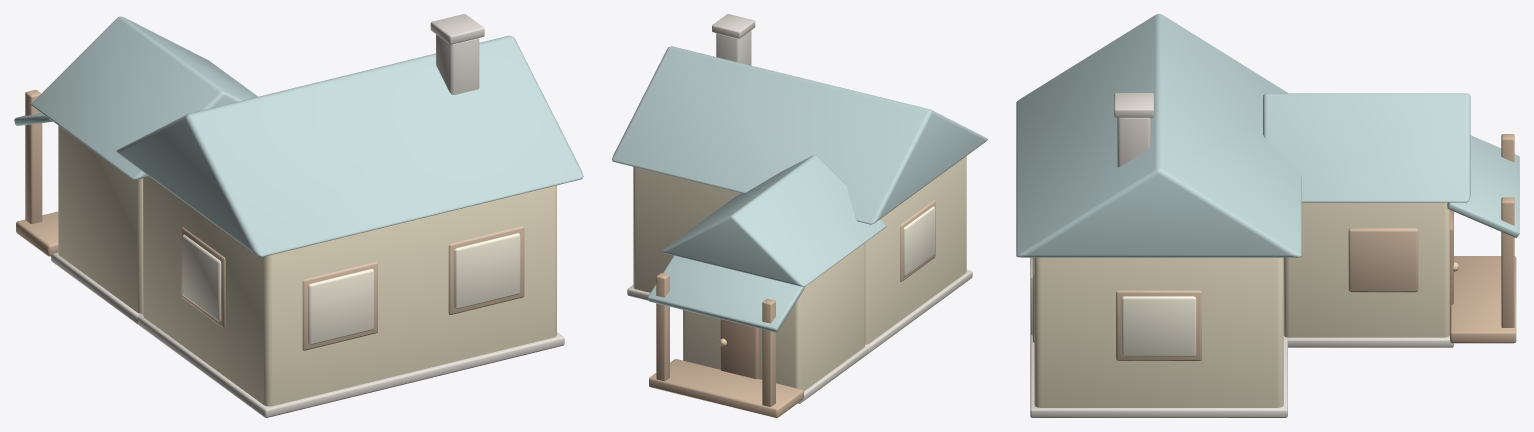
Rendered from Structures_Cabin_B_M_v01.glb.
3 renders of one model, left to right at view 1: azimuth 30°, elevation 25°; view 2: azimuth 150°, elevation 25°; view 3: azimuth 270°, elevation 25°, orthographic. The views are drawn at different scales.
Parts seen in each view (by area): view 1: Cabin_Roof_Main, Cabin_Body_Main, Cabin_Roof_Wing, Cabin_Body_Wing, Cabin_Foundation_Main, Cabin_Window_Front_B, Cabin_Window_Front_A, Cabin_Window_Side_L, Cabin_Chimney, Cabin_Porch_Post_0, Cabin_Window_Front_B_Frame, Cabin_Window_Front_A_Frame (+4 smaller); view 2: Cabin_Roof_Main, Cabin_Body_Main, Cabin_Roof_Wing, Cabin_Body_Wing, Cabin_Porch_Roof, Cabin_Porch_Deck, Cabin_Door, Cabin_Window_Side_L, Cabin_Porch_Post_0, Cabin_Porch_Post_1, Cabin_Foundation_Main, Cabin_Chimney (+3 smaller); view 3: Cabin_Roof_Main, Cabin_Body_Main, Cabin_Roof_Wing, Cabin_Body_Wing, Cabin_Porch_Deck, Cabin_Window_Side_R, Cabin_Window_Wing_Frame, Cabin_Porch_Roof, Cabin_Foundation_Main, Cabin_Foundation_Wing, Cabin_Window_Side_R_Frame, Cabin_Porch_Post_1 (+2 smaller).
Part boxes in pixels (left/top/right/bottom): Cabin_Roof_Main: left=116, top=35, right=583, bottom=256; Cabin_Body_Main: left=143, top=176, right=556, bottom=406; Cabin_Roof_Wing: left=31, top=16, right=257, bottom=179; Cabin_Body_Wing: left=58, top=125, right=142, bottom=313; Cabin_Foundation_Main: left=138, top=314, right=564, bottom=417; Cabin_Window_Front_B: left=454, top=233, right=520, bottom=309; Cabin_Window_Front_A: left=308, top=269, right=374, bottom=344; Cabin_Window_Side_L: left=182, top=234, right=221, bottom=321; Cabin_Chimney: left=436, top=34, right=479, bottom=94; Cabin_Porch_Post_0: left=25, top=89, right=42, bottom=223; Cabin_Window_Front_B_Frame: left=448, top=226, right=524, bottom=314; Cabin_Window_Front_A_Frame: left=302, top=262, right=377, bottom=350; Cabin_Roof_Main: left=612, top=46, right=987, bottom=224; Cabin_Body_Main: left=633, top=156, right=966, bottom=344; Cabin_Roof_Wing: left=661, top=155, right=886, bottom=286; Cabin_Body_Wing: left=683, top=243, right=864, bottom=391; Cabin_Porch_Roof: left=647, top=255, right=804, bottom=332; Cabin_Porch_Deck: left=649, top=359, right=803, bottom=417; Cabin_Door: left=720, top=319, right=758, bottom=378; Cabin_Window_Side_L: left=903, top=206, right=934, bottom=276; Cabin_Porch_Post_0: left=762, top=298, right=775, bottom=406; Cabin_Porch_Post_1: left=656, top=273, right=669, bottom=381; Cabin_Foundation_Main: left=627, top=269, right=972, bottom=352; Cabin_Chimney: left=716, top=30, right=751, bottom=65; Cabin_Roof_Main: left=1016, top=14, right=1301, bottom=257; Cabin_Body_Main: left=1034, top=257, right=1283, bottom=407; Cabin_Roof_Wing: left=1263, top=93, right=1470, bottom=202; Cabin_Body_Wing: left=1283, top=202, right=1449, bottom=337; Cabin_Porch_Deck: left=1450, top=256, right=1516, bottom=343; Cabin_Window_Side_R: left=1121, top=296, right=1196, bottom=356; Cabin_Window_Wing_Frame: left=1348, top=228, right=1418, bottom=292; Cabin_Porch_Roof: left=1447, top=135, right=1519, bottom=237; Cabin_Foundation_Main: left=1030, top=334, right=1287, bottom=417; Cabin_Foundation_Wing: left=1284, top=335, right=1453, bottom=347; Cabin_Window_Side_R_Frame: left=1116, top=290, right=1201, bottom=360; Cabin_Porch_Post_1: left=1501, top=197, right=1514, bottom=327.
Bounding box in the file's own units: 4.5 × 3.87 × 6.05.
